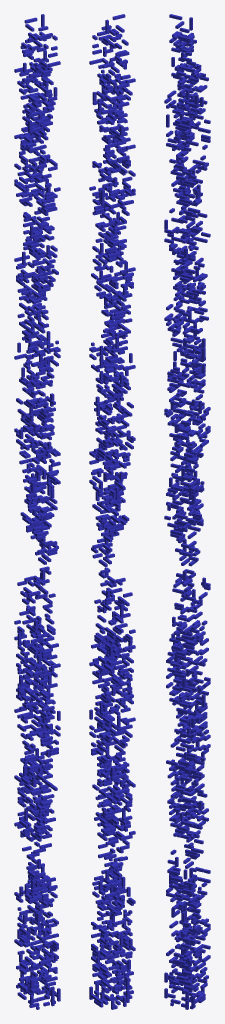
Rendered from start.obj.
3 views of the same model, side by side, from view 1: azimuth 30°, elevation 25°; view 2: azimuth 210°, elevation 25°; view 3: azimuth 330°, elevation 25° (orthographic).
Bounding box in the file's own units: 9.8 × 313 × 9.8.
